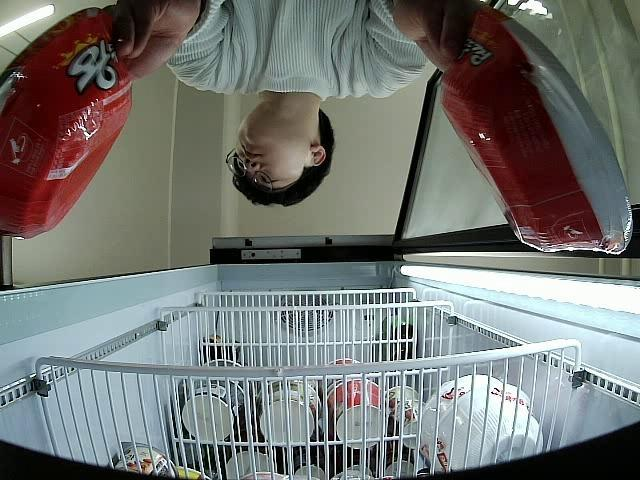10_wangTtukkeong: (442, 8, 632, 256), (0, 7, 131, 238)
